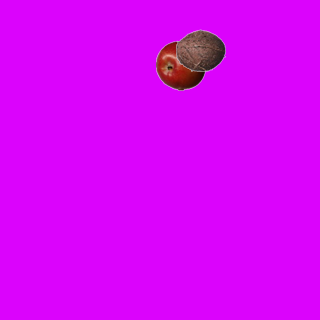Apple Braeburn: (155, 40, 205, 90)
Cocos: (175, 25, 225, 75)
